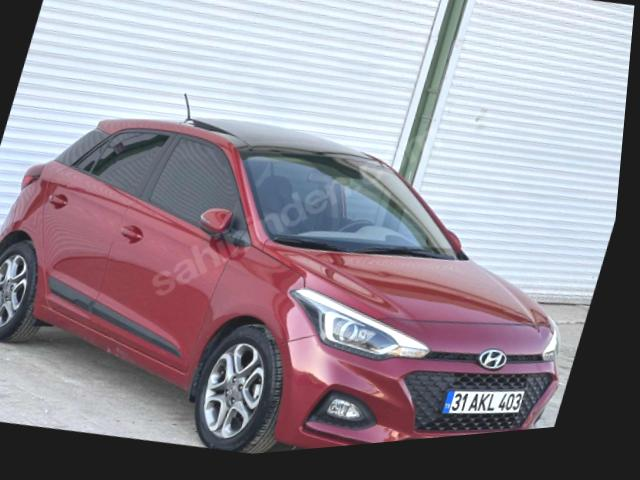plaka: (441, 390, 523, 414)
